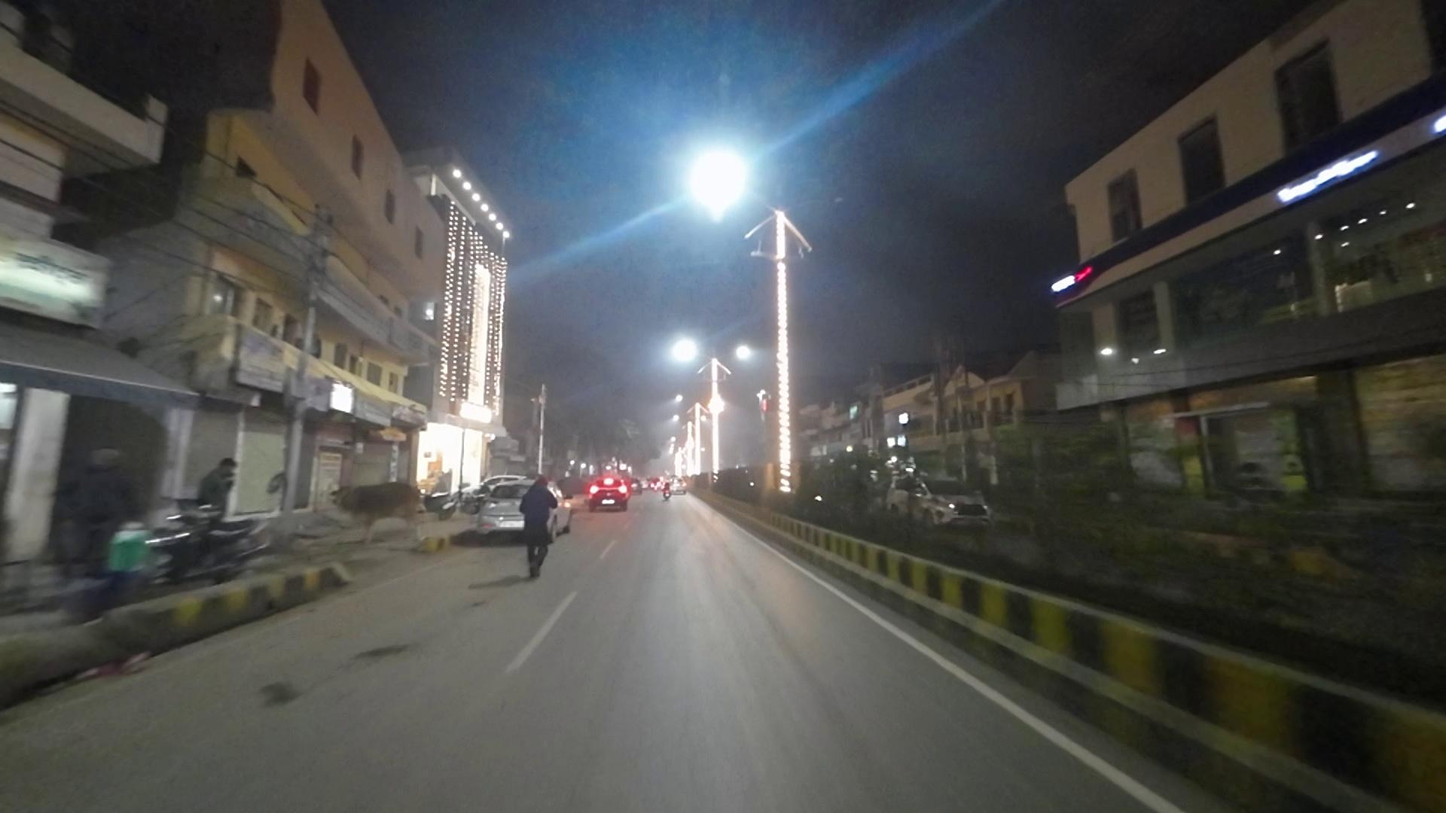streetlight: (795, 194, 848, 209)
